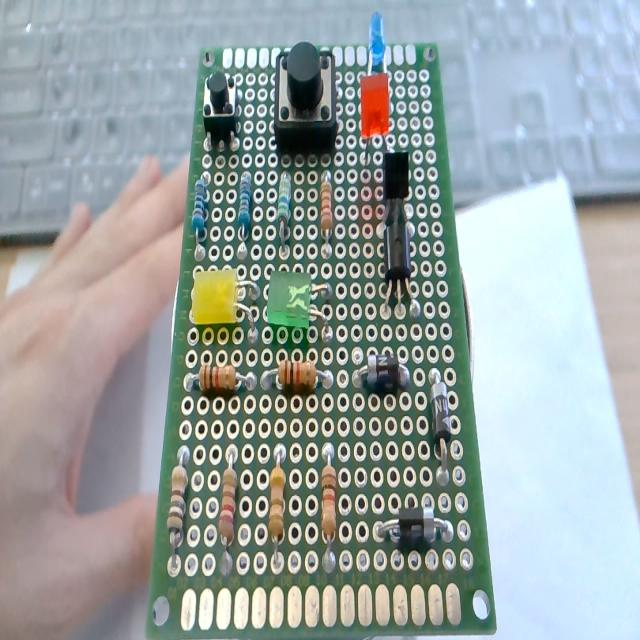diode: (364, 499, 456, 552), (426, 352, 455, 476), (348, 344, 412, 398)
led: (187, 263, 265, 340), (266, 262, 335, 340), (360, 71, 394, 157), (360, 18, 398, 92)
resistor: (162, 442, 204, 569), (312, 452, 342, 578), (180, 356, 256, 401), (215, 452, 243, 568), (264, 450, 288, 569), (260, 364, 330, 404), (320, 164, 338, 260), (275, 162, 294, 250), (189, 163, 209, 244), (235, 170, 252, 246)
switch: (272, 41, 344, 157), (202, 71, 244, 140)
transistor: (381, 218, 418, 306), (382, 151, 412, 222)
